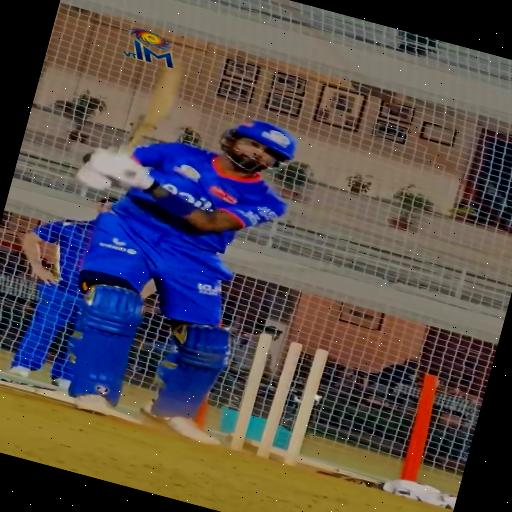Cricket bat: (122, 61, 183, 151)
